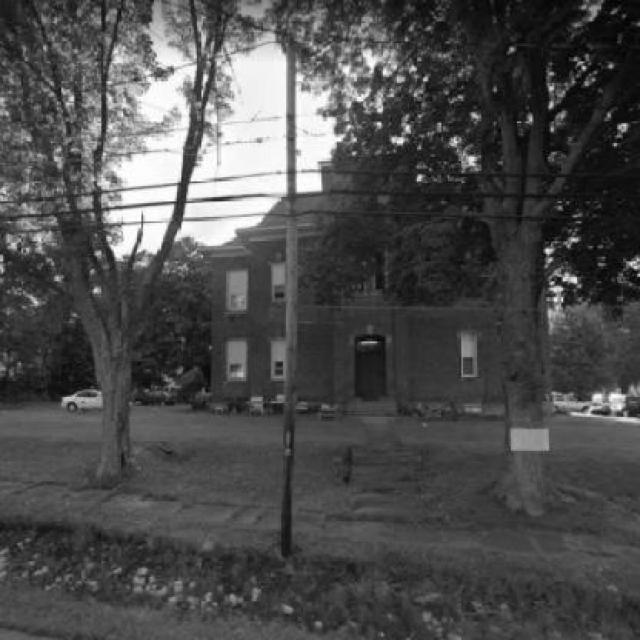pole: (207, 0, 361, 578)
